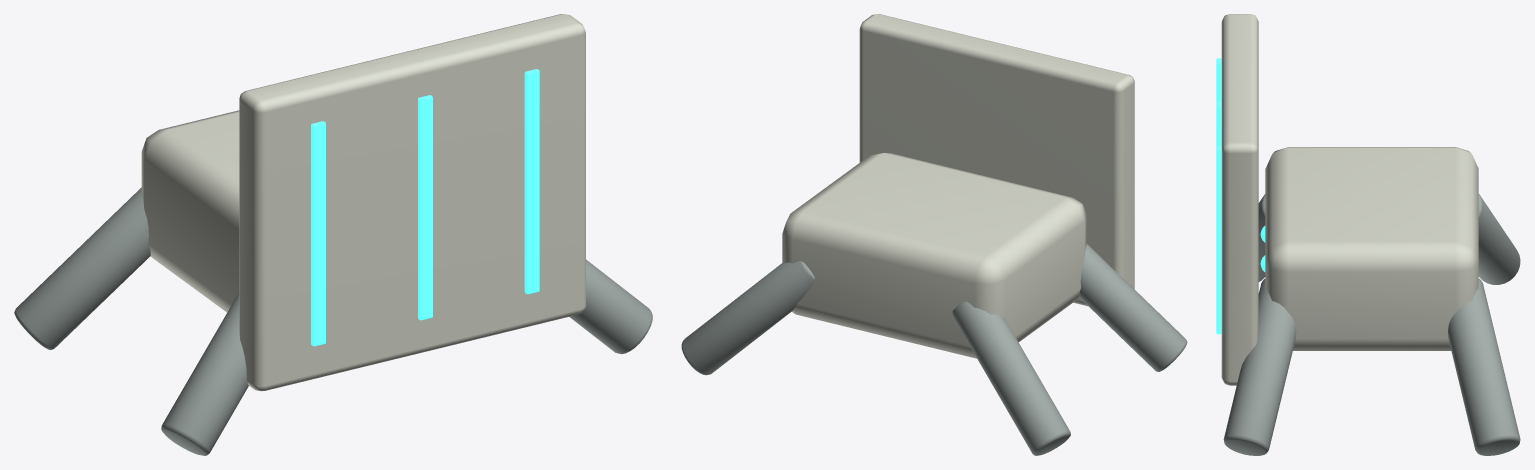
File: card_shield.glb
3 views of the same model, side by side, from view 1: azimuth 30°, elevation 25°; view 2: azimuth 150°, elevation 25°; view 3: azimuth 270°, elevation 25° (orthographic). The views are drawn at different scales.
Visible parts, largest first — view 1: card_shield; view 2: card_shield; view 3: card_shield.
Part boxes in pixels (left/top/right/bottom): card_shield: left=14, top=14, right=652, bottom=455; card_shield: left=681, top=14, right=1187, bottom=455; card_shield: left=1216, top=14, right=1520, bottom=455.
Size of the model in its own units: 2.4 by 1.66 by 1.57.
